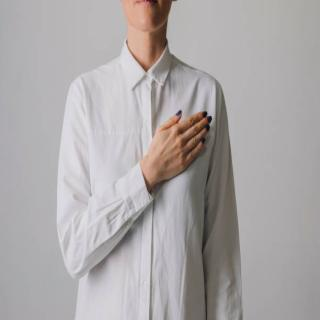Please: (139, 105, 219, 174)
